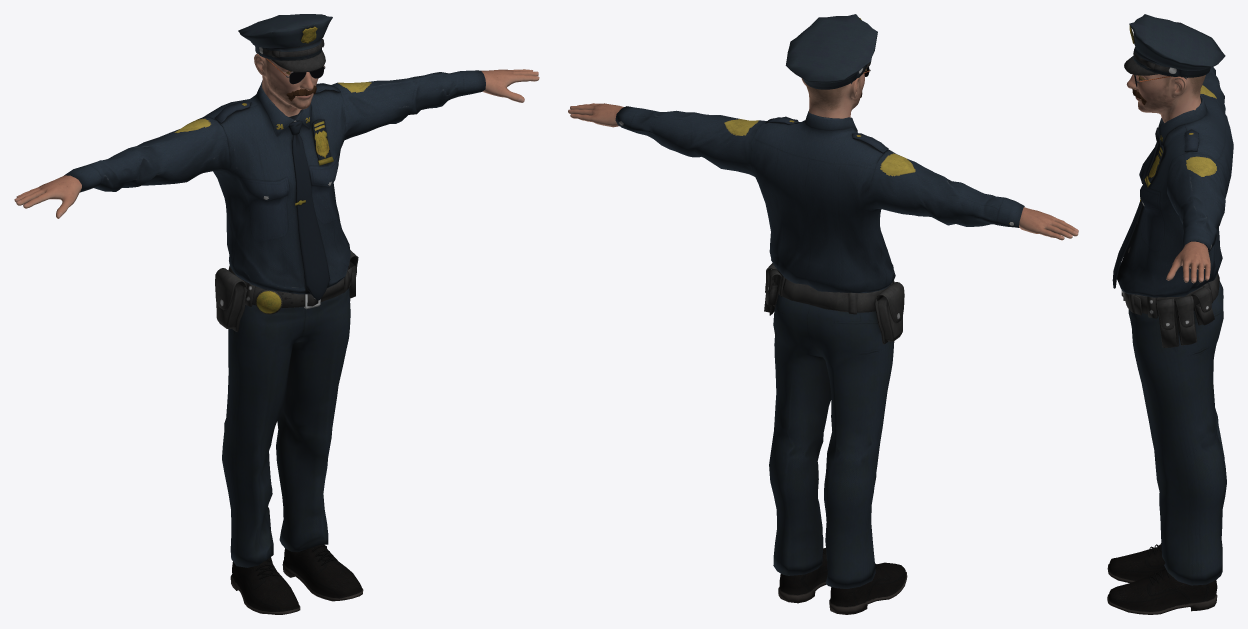
File: PoliceMan.obj
3 renders of one model, left to right at view 1: azimuth 30°, elevation 25°; view 2: azimuth 150°, elevation 25°; view 3: azimuth 270°, elevation 25°, orthographic. The views are drawn at different scales.
Parts seen in each view (by area): view 1: Tops, Bottoms, Shoes, Body, Hats; view 2: Bottoms, Tops, Hats, Body, Shoes; view 3: Bottoms, Tops, Shoes, Hats, Body.
Part boxes in pixels (<box>): Tops: <box>64,70,485,300</box>; Bottoms: <box>215,250,358,567</box>; Shoes: <box>230,544,363,614</box>; Body: <box>14,53,539,218</box>; Hats: <box>238,14,332,72</box>; Bottoms: <box>764,263,904,588</box>; Tops: <box>615,106,1024,293</box>; Hats: <box>785,14,877,89</box>; Body: <box>568,72,1078,240</box>; Shoes: <box>778,548,907,614</box>; Bottoms: <box>1121,272,1226,585</box>; Tops: <box>1112,66,1233,297</box>; Shoes: <box>1107,543,1217,614</box>; Hats: <box>1124,14,1225,77</box>; Body: <box>1126,74,1210,283</box>.
Size of the model in its own units: 171 by 181 by 36.58.
Materials: 7 (7 with a texture image).
